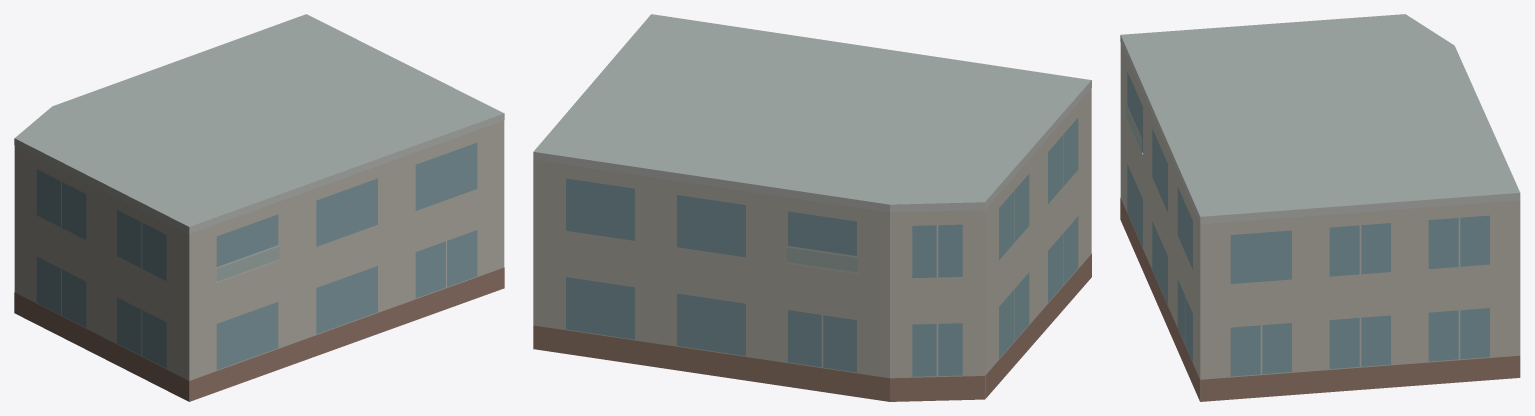
File: survey-upis-32705633.glb
3 views of the same model, side by side, from view 1: azimuth 30°, elevation 25°; view 2: azimuth 150°, elevation 25°; view 3: azimuth 270°, elevation 25° (orthographic). The views are drawn at different scales.
Visible parts, largest first — view 1: survey-upis-32705633.tmp; view 2: survey-upis-32705633.tmp; view 3: survey-upis-32705633.tmp.
Boxes of the visible parts, x1=… form: survey-upis-32705633.tmp: x1=14, y1=14, x2=504, y2=401; survey-upis-32705633.tmp: x1=533, y1=14, x2=1091, y2=401; survey-upis-32705633.tmp: x1=1120, y1=14, x2=1520, y2=401.
Size of the model in its own units: 14.36 by 6.1 by 11.96.
